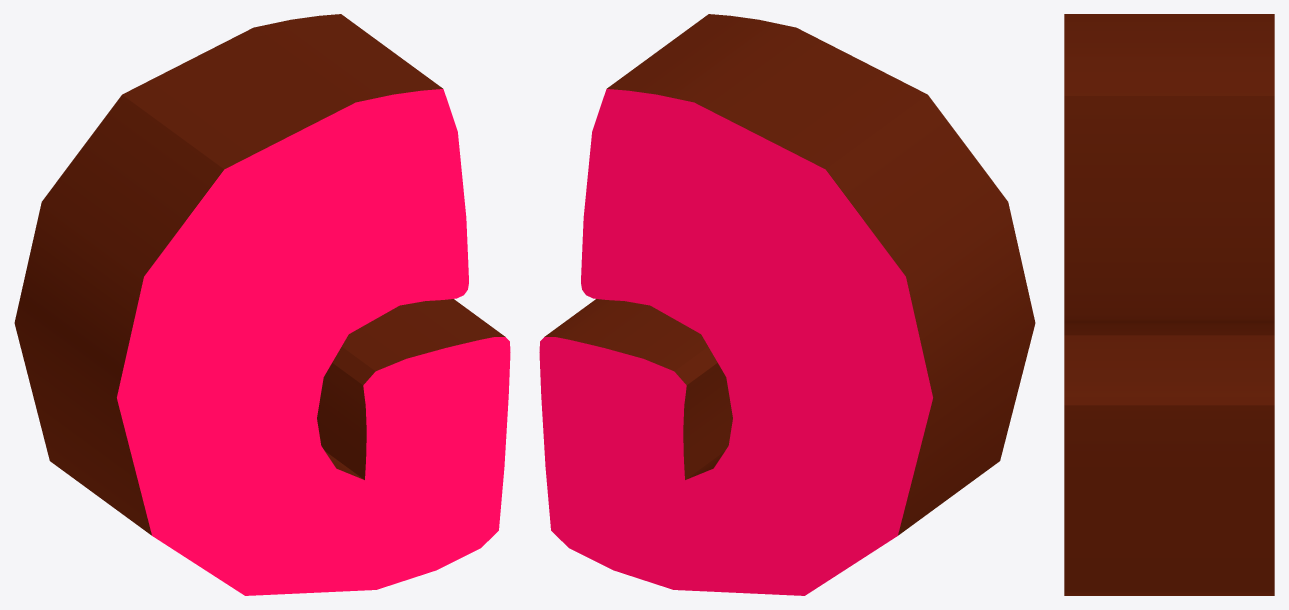
The picture shows the model from 3 angles, left to right: view 1: azimuth 30°, elevation 25°; view 2: azimuth 150°, elevation 25°; view 3: azimuth 270°, elevation 25°; orthographic projection. The views are drawn at different scales.
Parts seen in each view (by area): view 1: g; view 2: g; view 3: g.
Part boxes in pixels (x1,y1,x2,y2): g: (14, 14, 510, 595); g: (539, 14, 1035, 595); g: (1064, 14, 1274, 595).
Bounding box in the file's own units: 0.4 × 0.4782 × 0.18.
